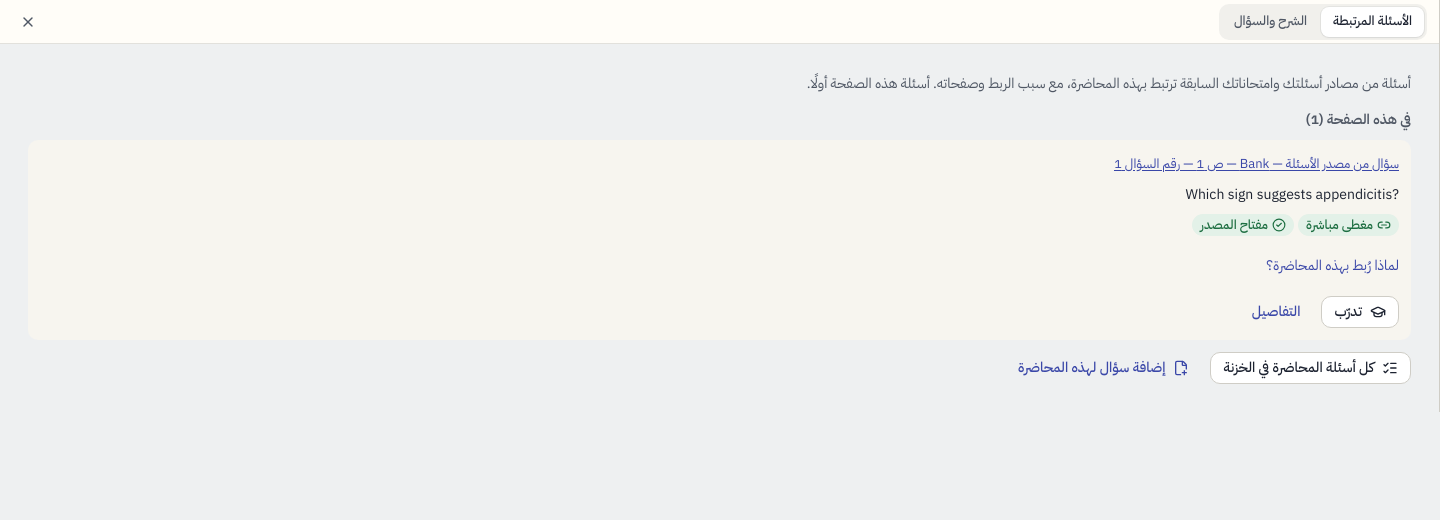
it: H3 item 3 — the lecture next to its questions or the explanations › shows the questions linked to the lecture page; switching to the explanations and back keeps both panes as they were
This screenshot has width=1440, height=520.
Expected: the text "Which sign suggests appendicitis?" is shown, [1185,184,1399,205]
Note: to the explanations: the AI paths say why they are not available here (no key), honestly
Click the radio button labelled "الشرح والسؤال".
click(1270, 22)  # box [1222,6,1319,36]
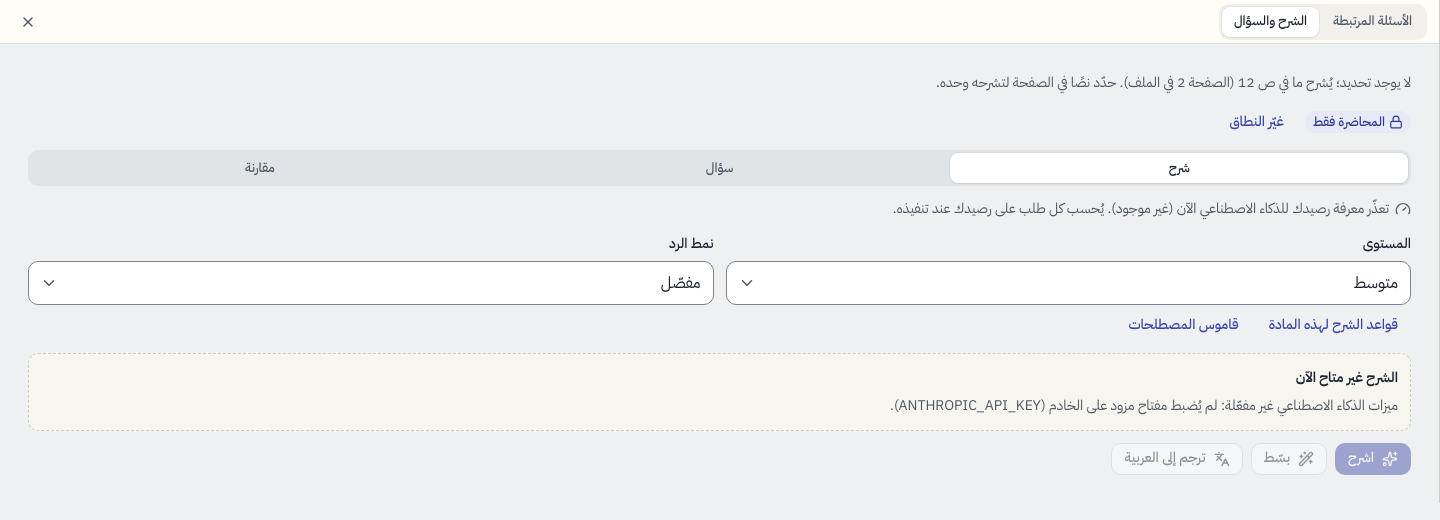
Now the element named "بجانب المحاضرة: الشرح والسؤال" shows "ANTHROPIC_API_KEY", box [890,395,1398,416]
Note: back to the questions: still there, not fetched again (its state was kept, hidden)
Click the radio button labelled "الأسئلة المرتبطة".
click(1373, 22)  # box [1321,6,1424,36]
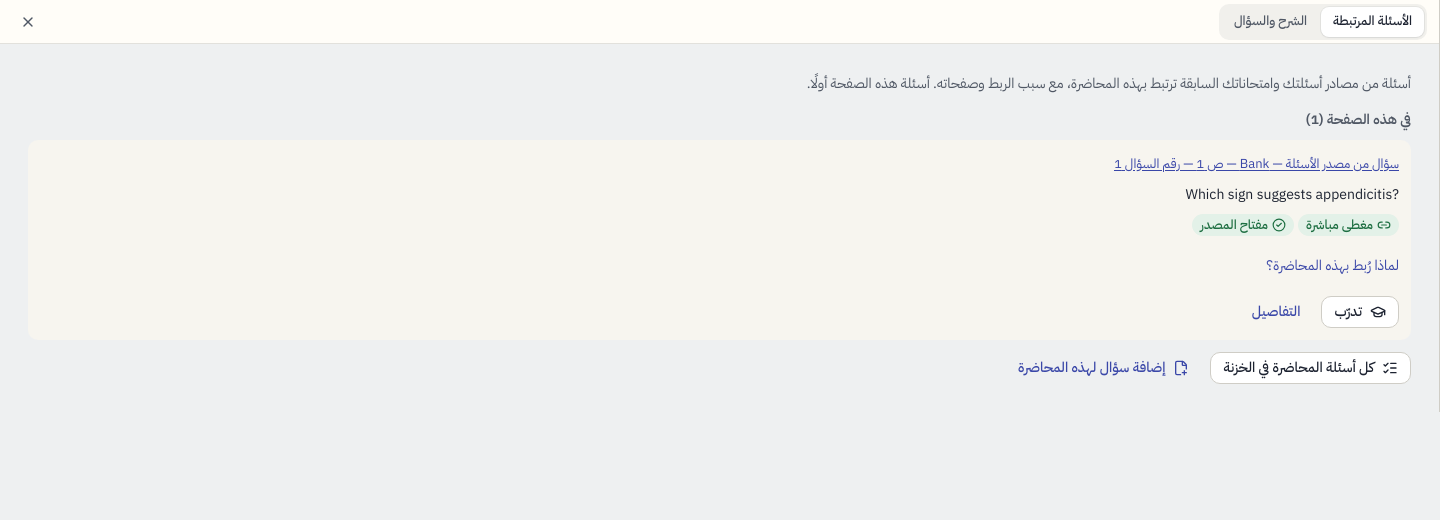
Now the text "Which sign suggests appendicitis?" is shown, box [1185,184,1399,205]
